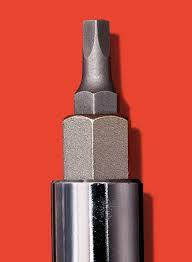screwdriver: (60, 15, 129, 181)
